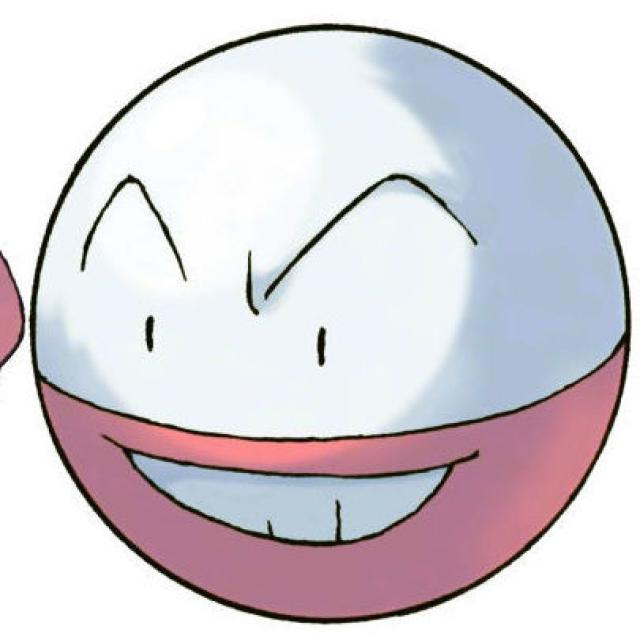Electrode: (25, 25, 636, 622)
